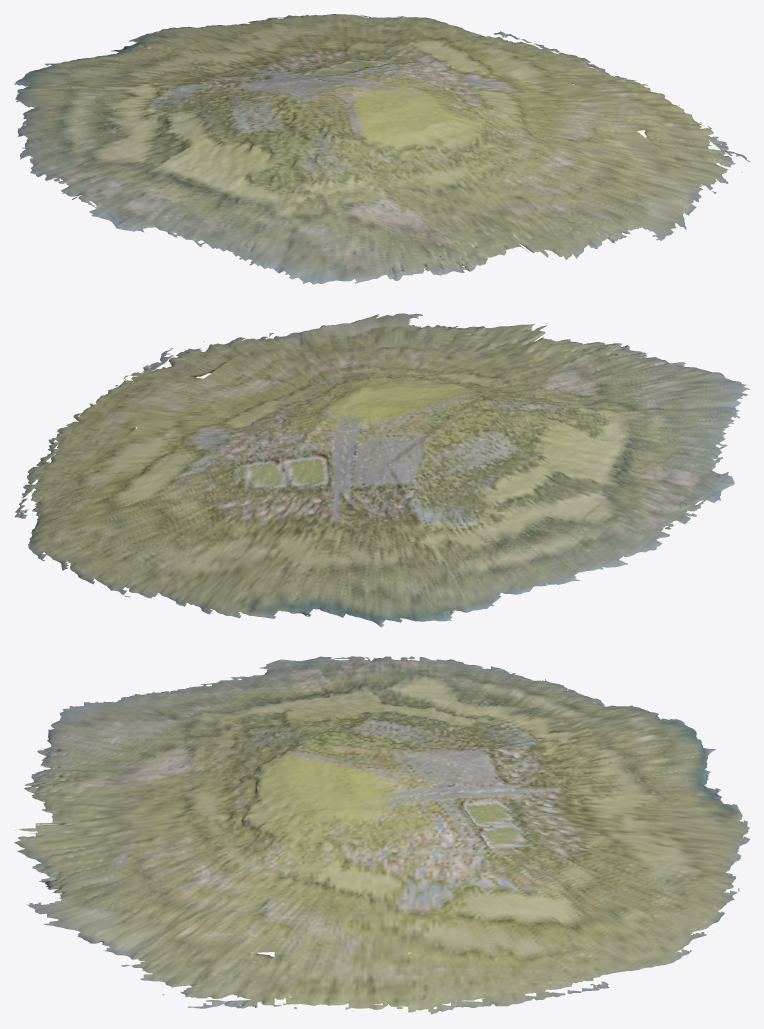
The model's file is collider.glb.
The picture shows the model from 3 angles, top to bottom: view 1: azimuth 30°, elevation 25°; view 2: azimuth 150°, elevation 25°; view 3: azimuth 270°, elevation 25°; orthographic projection. The views are drawn at different scales.
Parts seen in each view (by area): view 1: world; view 2: world; view 3: world.
Part boxes in pixels (box(x1,y1,x2,y2)): world: box(14, 14, 749, 284); world: box(14, 313, 749, 627); world: box(14, 656, 749, 1014).
Size of the model in its own units: 115 by 15.09 by 116.
